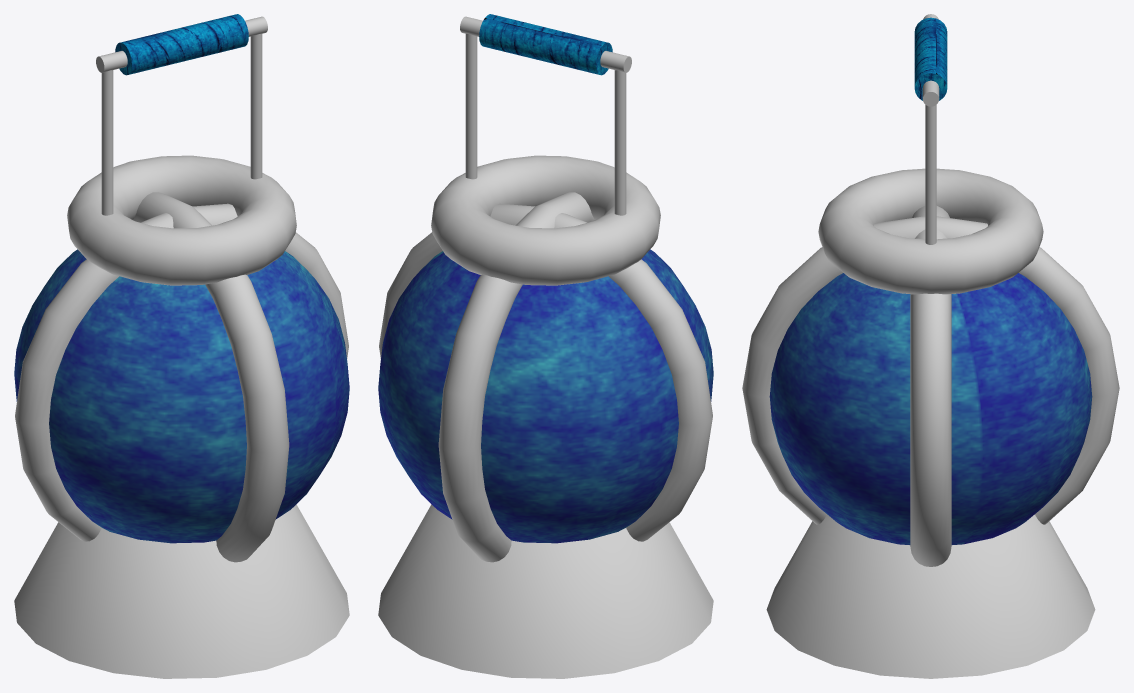
The model's file is Lantern_orb.dae.
3 renders of one model, left to right at view 1: azimuth 30°, elevation 25°; view 2: azimuth 150°, elevation 25°; view 3: azimuth 270°, elevation 25°, orthographic. The views are drawn at different scales.
Visible parts, largest first — view 1: whatever_this_is, orb, handle_thingerinos, handle; view 2: whatever_this_is, orb, handle_thingerinos, handle; view 3: whatever_this_is, orb, handle, handle_thingerinos.
Boxes of the visible parts, bbox=[...] form: whatever_this_is: bbox=[14, 155, 349, 678]; orb: bbox=[14, 249, 349, 543]; handle_thingerinos: bbox=[96, 16, 267, 215]; handle: bbox=[115, 14, 248, 75]; whatever_this_is: bbox=[378, 155, 713, 678]; orb: bbox=[378, 249, 713, 543]; handle_thingerinos: bbox=[460, 16, 631, 215]; handle: bbox=[479, 14, 612, 75]; whatever_this_is: bbox=[742, 168, 1119, 678]; orb: bbox=[769, 273, 1092, 544]; handle: bbox=[914, 17, 947, 100]; handle_thingerinos: bbox=[922, 14, 939, 244].
Size of the model in its own units: 2.25 by 3.79 by 2.3.
